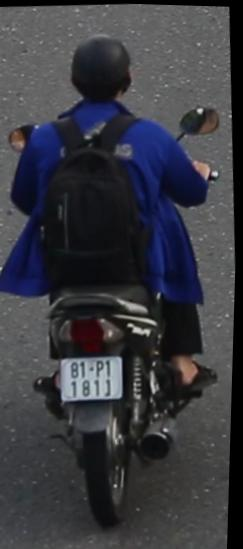LP: (60, 347, 130, 406)
helmet: (64, 27, 138, 119)
